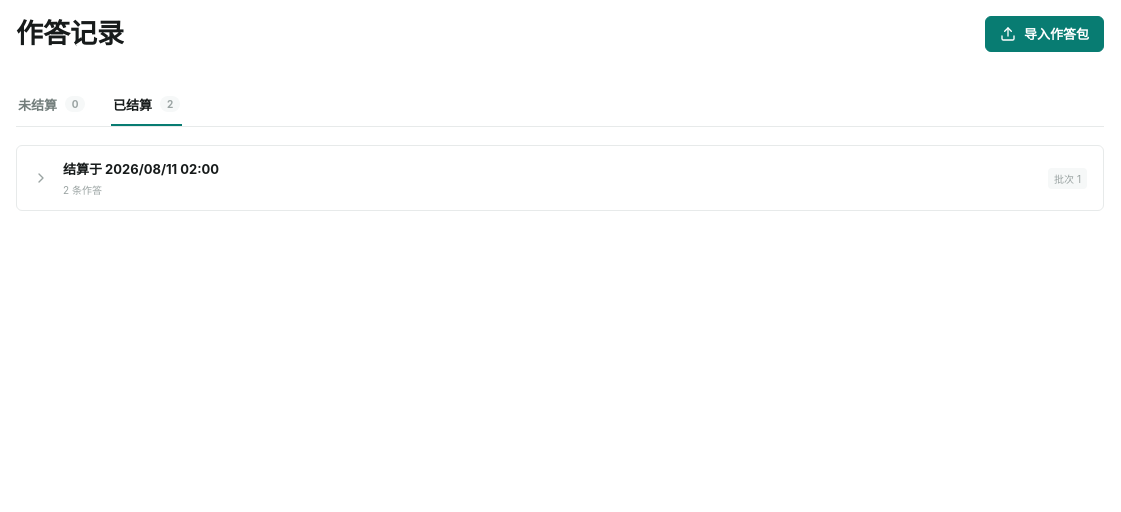
it: 单份报告导出 › 导出失败时显示原因
Step 1. Click the button "结算于 2026/08/11 02:00 2 条作答 批次 1" → (84, 169), box [17,146,1103,210]
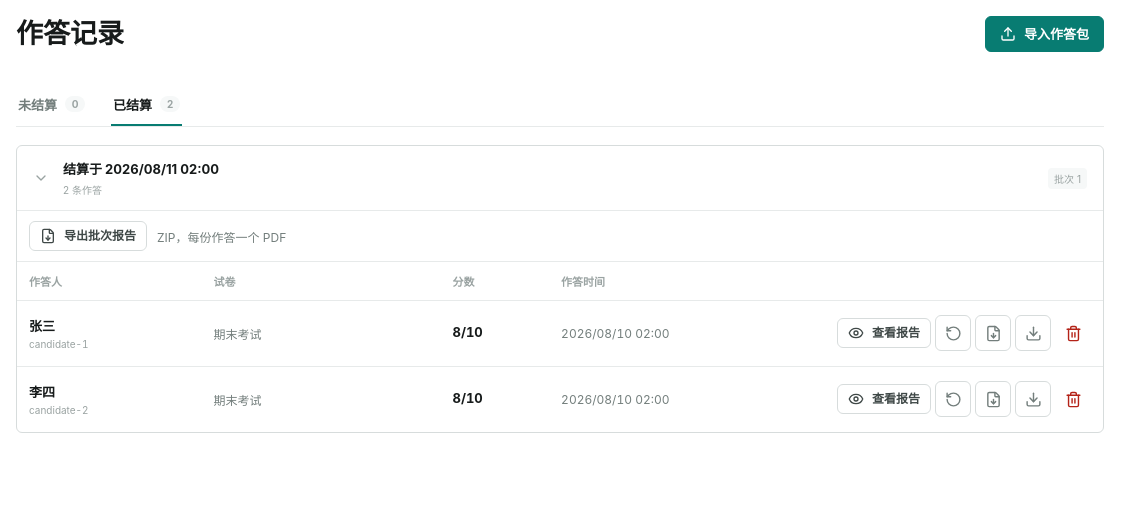
Step 2. Click the button named "导出报告" in the row of "张三" → (993, 333), box [975,315,1011,351]
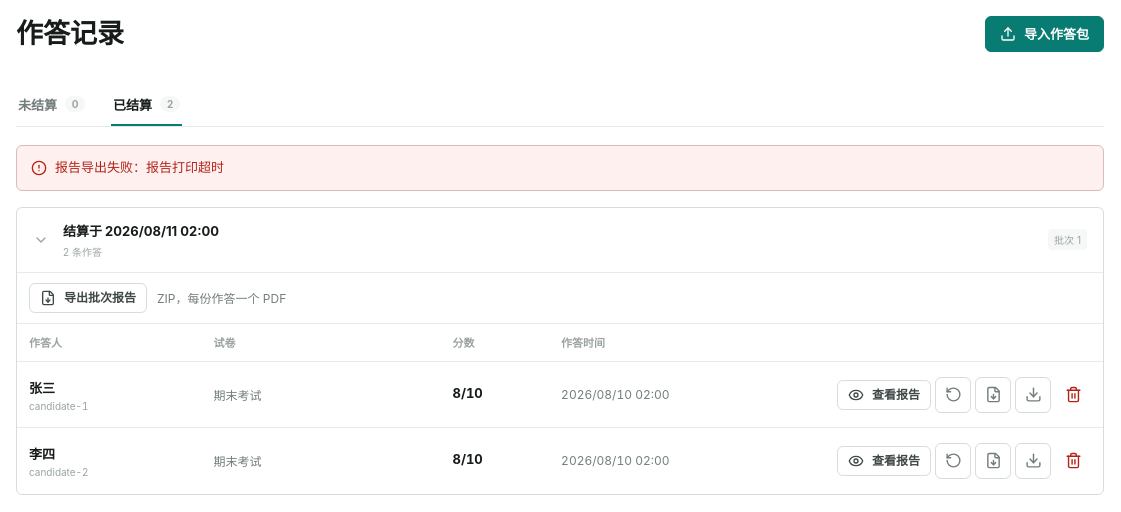
Expected: the message reads "报告导出失败：报告打印超时", [55,159,224,175]
